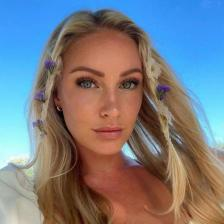Normal: (63, 42, 142, 149)
